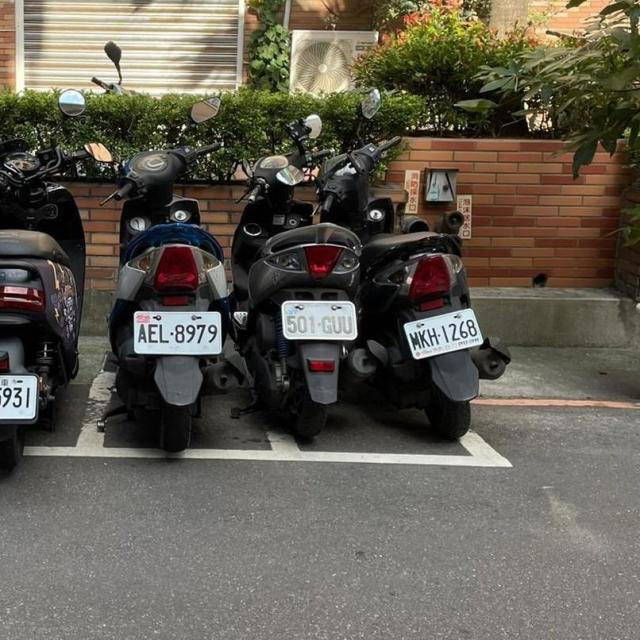W: (392, 306, 487, 361), (128, 308, 226, 357), (276, 296, 360, 342), (0, 369, 40, 423)
